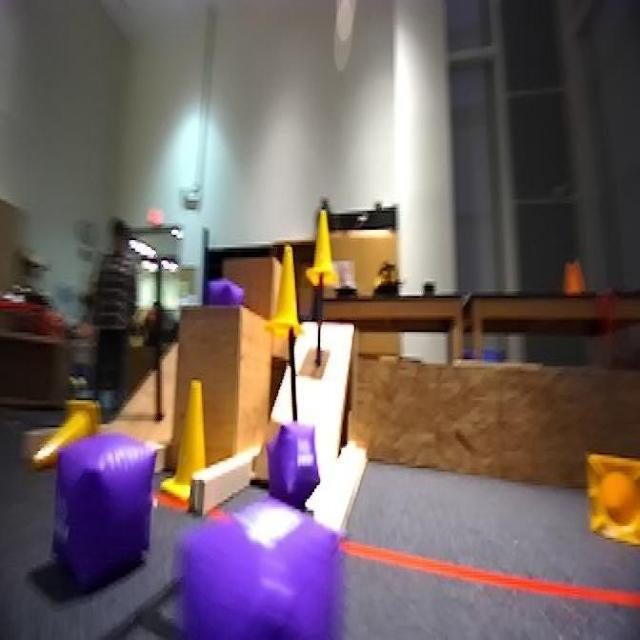frc_cone: (161, 371, 219, 504), (586, 451, 640, 544), (34, 402, 90, 475), (268, 240, 304, 339), (310, 213, 336, 291)
frc_cube: (170, 495, 335, 640), (49, 432, 148, 589), (267, 420, 321, 518), (203, 281, 235, 311)
